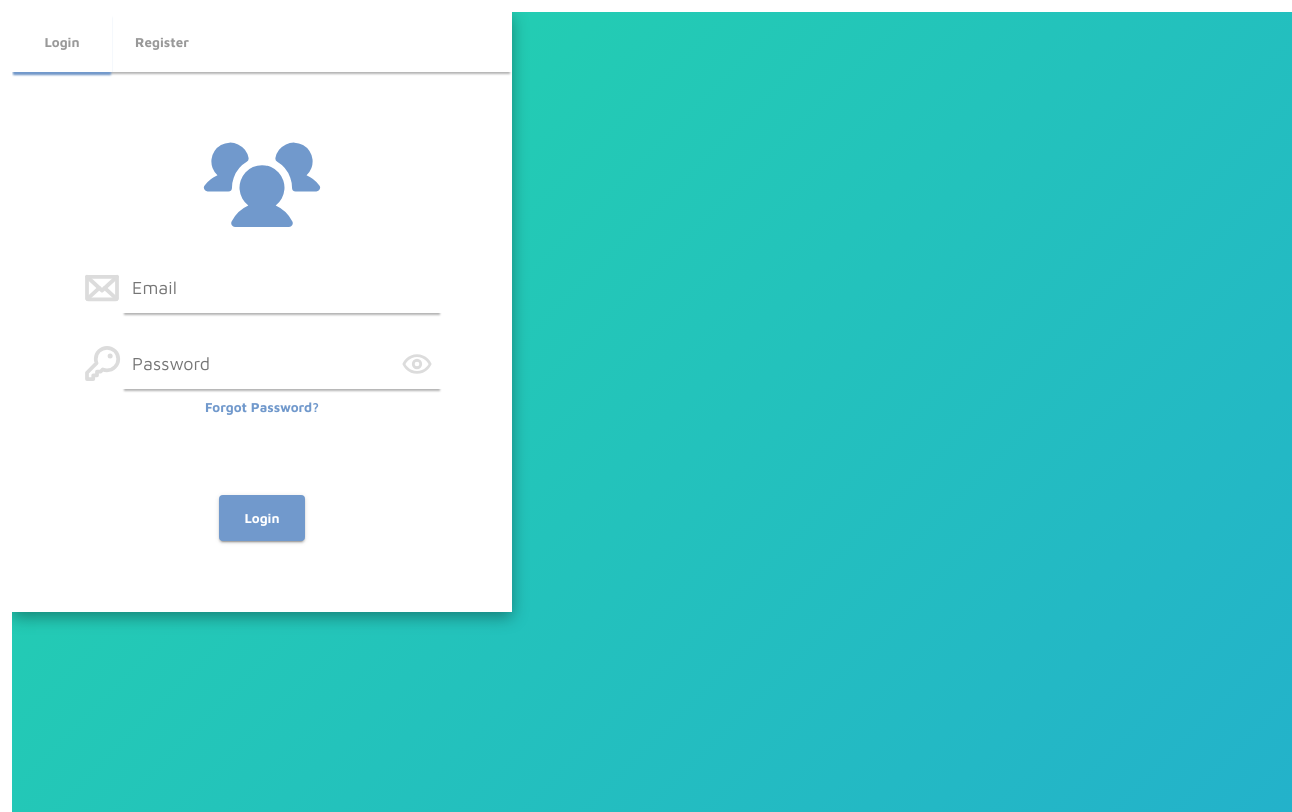
Test: Tests for Login page › Login should handle user sign in
Type "test" into the password field with placeholder "Email" at (282, 288), box top-left (122, 262), bottom-right (442, 313)
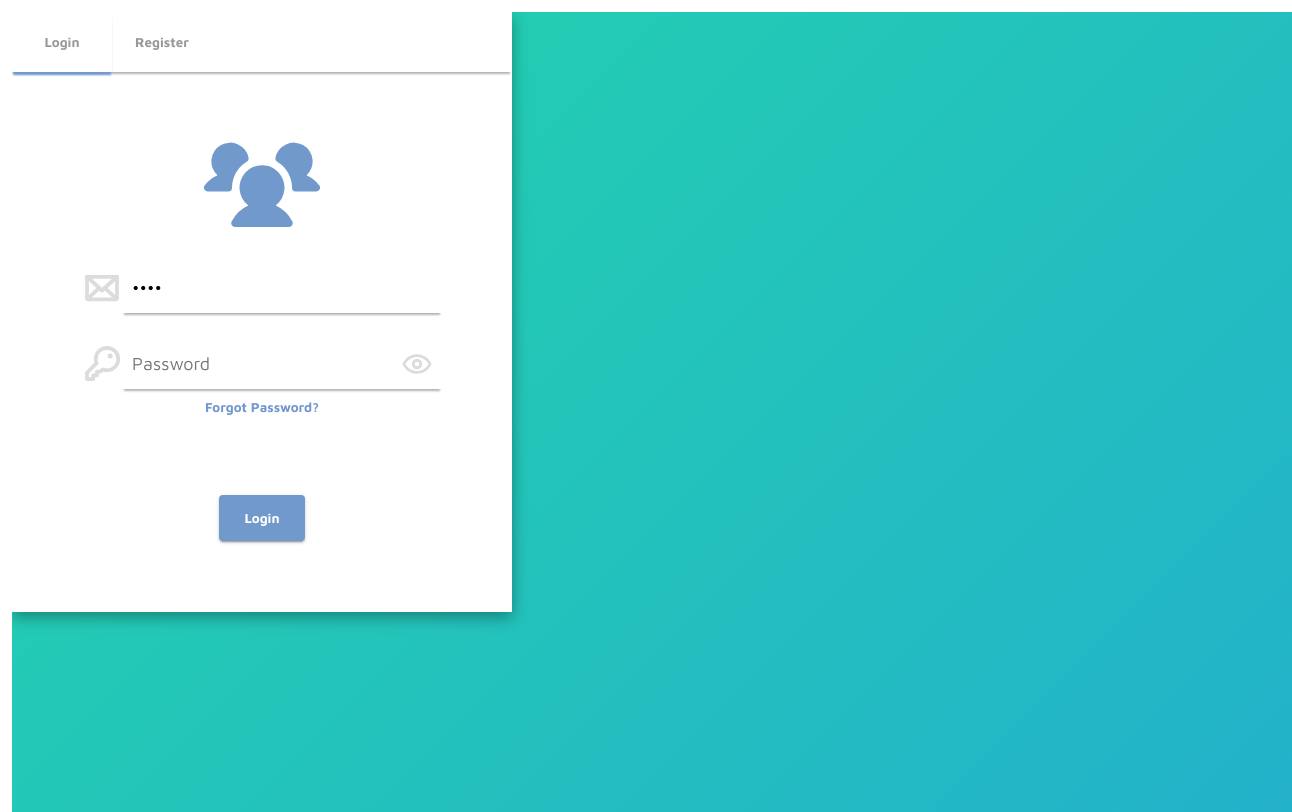
Type "test" into the password field with placeholder "Password" at (282, 364), box top-left (122, 338), bottom-right (442, 389)
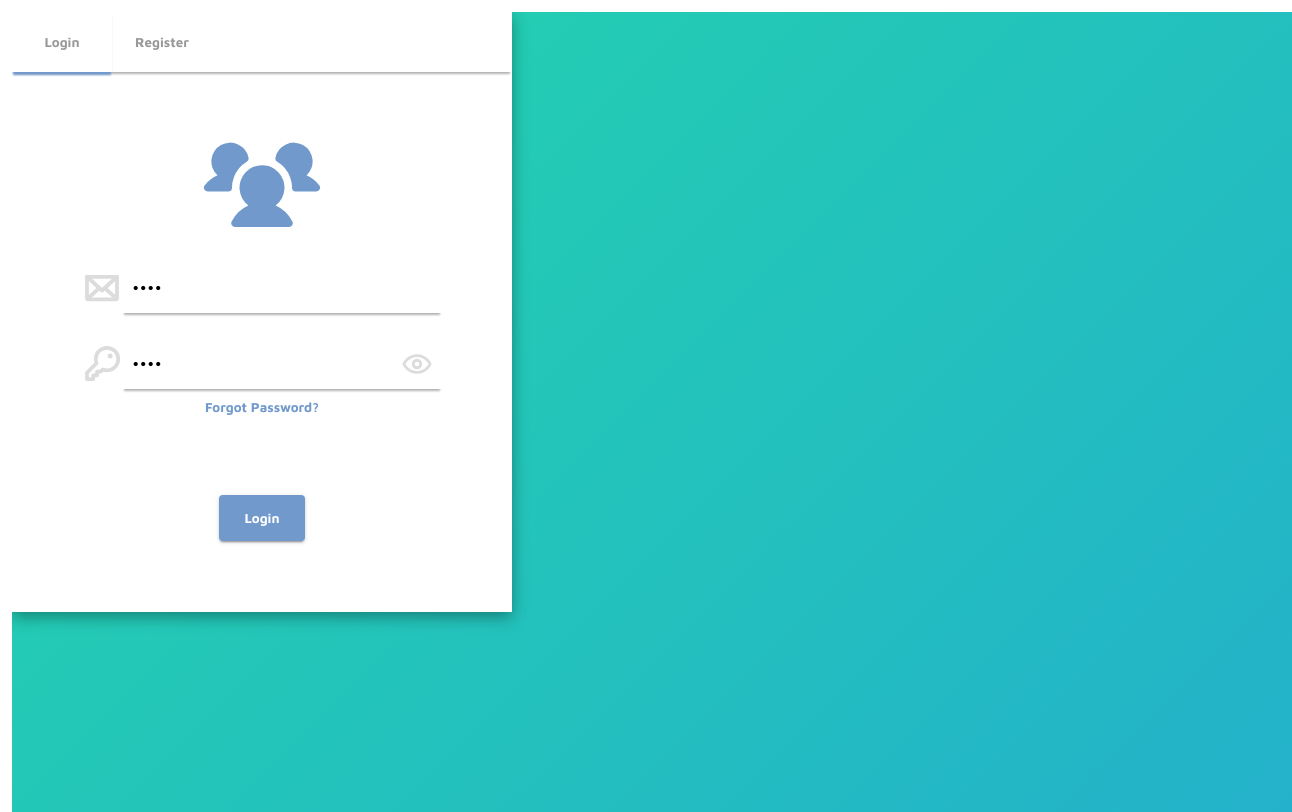
Click the button with test id "login-button" showing "Login" at (262, 518), box top-left (220, 495), bottom-right (305, 541)
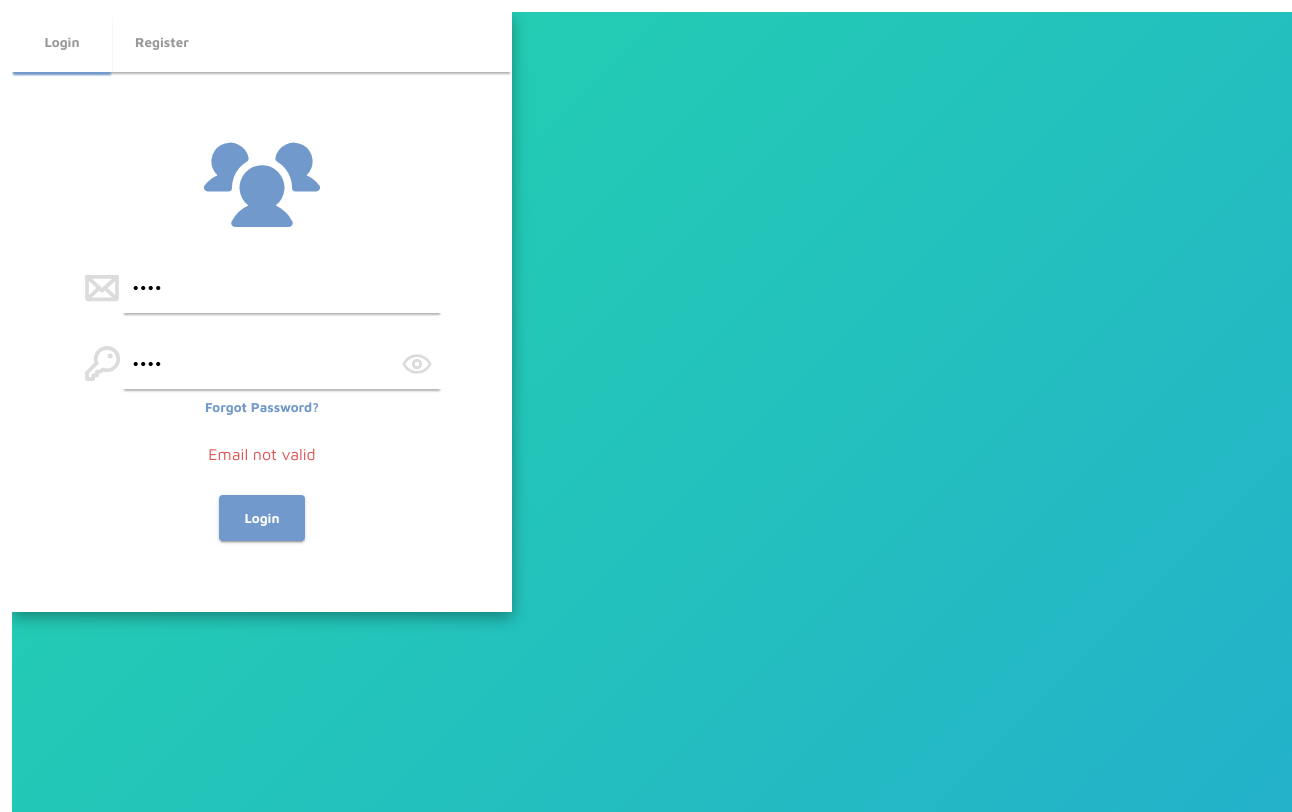
Expected: the text with test id "error" reads "Email not valid", top-left (208, 445), bottom-right (316, 463)
